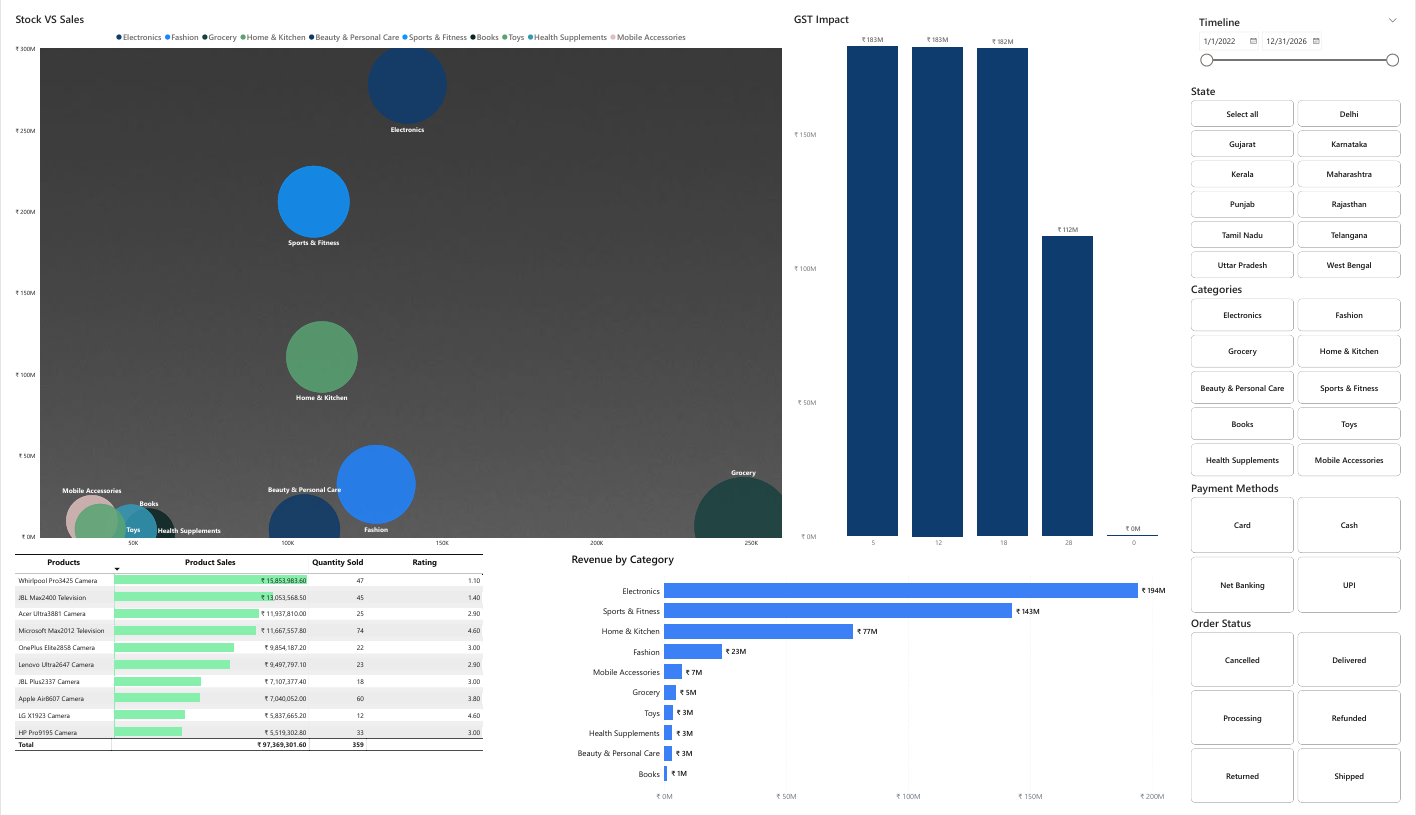

Layout of this report page (visuals, bound fields, positions):
{"tool":"powerbi","page":{"name":"Sales & Product Analysis","canvas":[2800,1600],"ordinal":1},"visuals":[{"type":"clusteredBarChart","title":"Revenue by Category","fields":{"Category":["Category.Category_Name"],"Y":["Category.Total Revenue"]},"box":[1120,1088,1248,512],"z":0},{"type":"tableEx","fields":{"Values":["Products.Product_Name","Category.Product Sales","Category.Total Quantity Sold","Products.Rating"]},"box":[0,1088,952,512],"z":1000},{"type":"scatterChart","title":"Stock VS Sales","fields":{"X":["Sum(Products.Stock)"],"Y":["Category.Product Sales"],"Size":["Category.Total Quantity Sold"],"Series":["Category.Category_Name"]},"box":[0,0,1568,1088],"z":2000},{"type":"clusteredColumnChart","title":"GST Impact","fields":{"Y":["Category.Product Sales"],"Category":["Products.GST"]},"box":[1568,0,800,1088],"z":3000},{"type":"slicer","fields":{"Values":["Date_Table.Date"]},"box":[2376,0,424,152],"z":4000},{"type":"advancedSlicerVisual","fields":{"Values":["Customers.State"]},"box":[2368,144,432,400],"z":5000},{"type":"advancedSlicerVisual","title":"Categories","fields":{"Values":["Category.Category_Name"]},"box":[2368,544,432,400],"z":6000},{"type":"advancedSlicerVisual","title":"Payment Methods","fields":{"Values":["Payments.Payment_Method"]},"box":[2368,944,432,272],"z":7000},{"type":"advancedSlicerVisual","title":"Order Status","fields":{"Values":["Orders.Order_Status"]},"box":[2368,1216,432,384],"z":8000}]}

Visuals, with their boxes in screenshot pixels (x1, y1, x2, y2), scaled from the page's 2800x1600 canvas onto the 1416x815 screenshot:
"Revenue by Category" clusteredBarChart: 566:554:1198:814
tableEx - Products.Product_Name x Category.Product Sales: 0:554:481:814
"Stock VS Sales" scatterChart: 0:0:793:554
"GST Impact" clusteredColumnChart: 793:0:1198:554
slicer - Date_Table.Date: 1202:0:1415:77
advancedSlicerVisual - Customers.State: 1198:73:1415:277
"Categories" advancedSlicerVisual: 1198:277:1415:481
"Payment Methods" advancedSlicerVisual: 1198:481:1415:619
"Order Status" advancedSlicerVisual: 1198:619:1415:814
